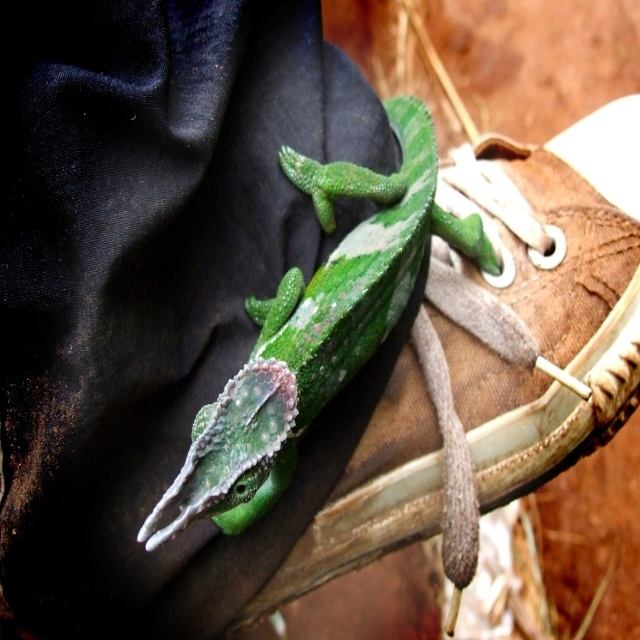Lizard: (91, 100, 466, 595)
